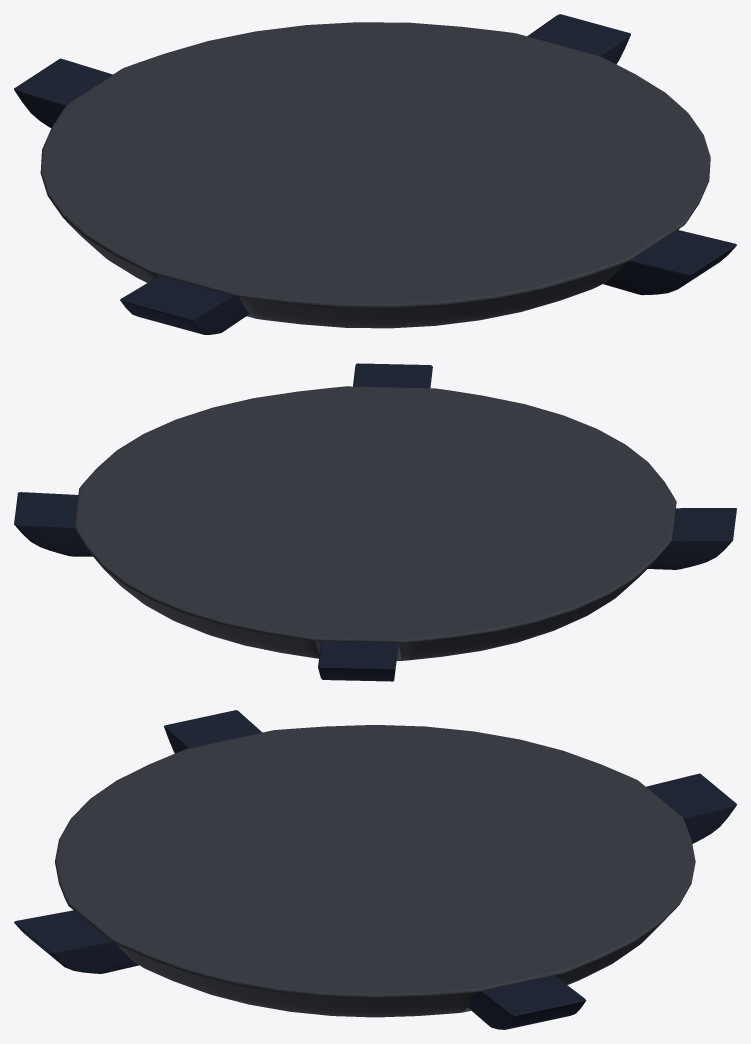
File: portalButtonWithAnimation.fbx
3 views of the same model, one above another, from view 1: azimuth 30°, elevation 25°; view 2: azimuth 150°, elevation 25°; view 3: azimuth 270°, elevation 25° (orthographic). The views are drawn at different scales.
Visible parts, largest first — view 1: pCylinder2; view 2: pCylinder2; view 3: pCylinder2.
Boxes of the visible parts, x1,y1,x2,y2 form: pCylinder2: (14, 14, 736, 334); pCylinder2: (14, 363, 736, 681); pCylinder2: (14, 710, 736, 1029).
Bounding box in the file's own units: 21.29 × 2.68 × 21.29.
